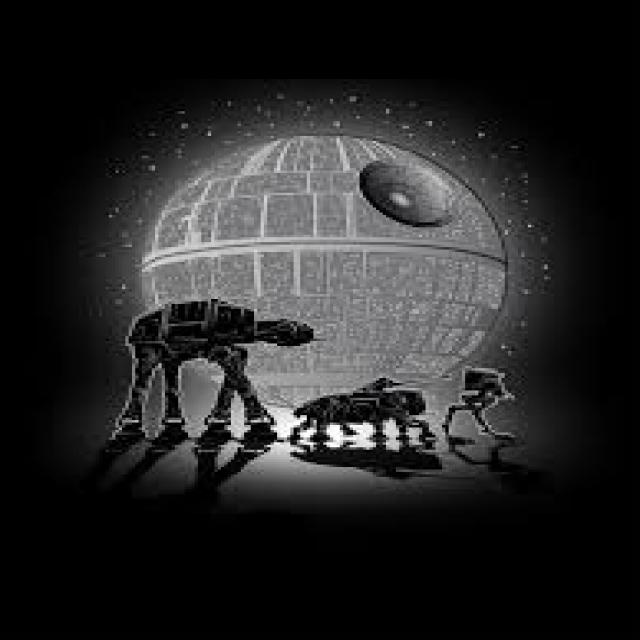deathStar: (153, 133, 508, 413)
